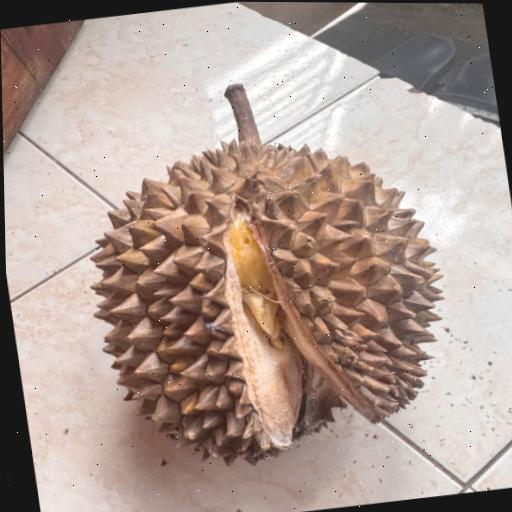rot: (45, 44, 503, 512)
